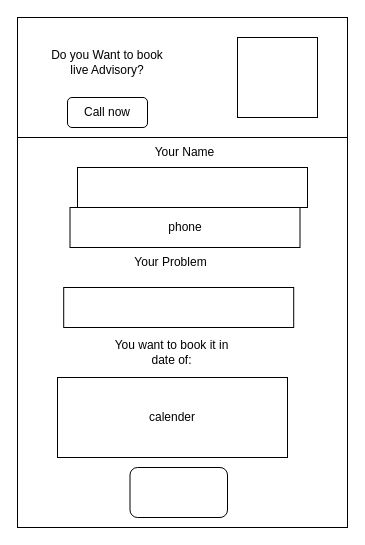
Image size: 365x545. Some labels were removed from this diagram. Each missing label, with the box of its shape:
Book Now!: (129, 466, 228, 518)
image: (236, 36, 318, 118)
